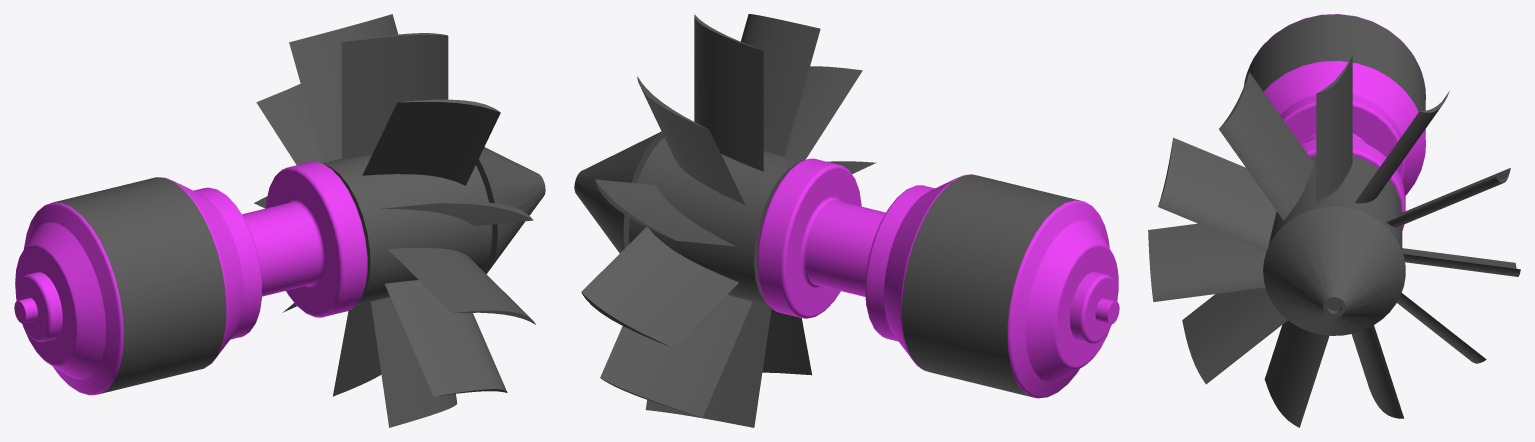
The model's file is impeler.dae.
3 renders of one model, left to right at view 1: azimuth 30°, elevation 25°; view 2: azimuth 150°, elevation 25°; view 3: azimuth 270°, elevation 25°, orthographic. The views are drawn at different scales.
Visible parts, largest first — view 1: EDF_impeler; view 2: EDF_impeler; view 3: EDF_impeler.
Part boxes in pixels (x1,y1,x2,y2): EDF_impeler: (14,14,545,427); EDF_impeler: (574,14,1119,427); EDF_impeler: (1148,14,1520,427).
Bounding box in the file's own units: 0.0778 × 0.0522 × 0.0517.
